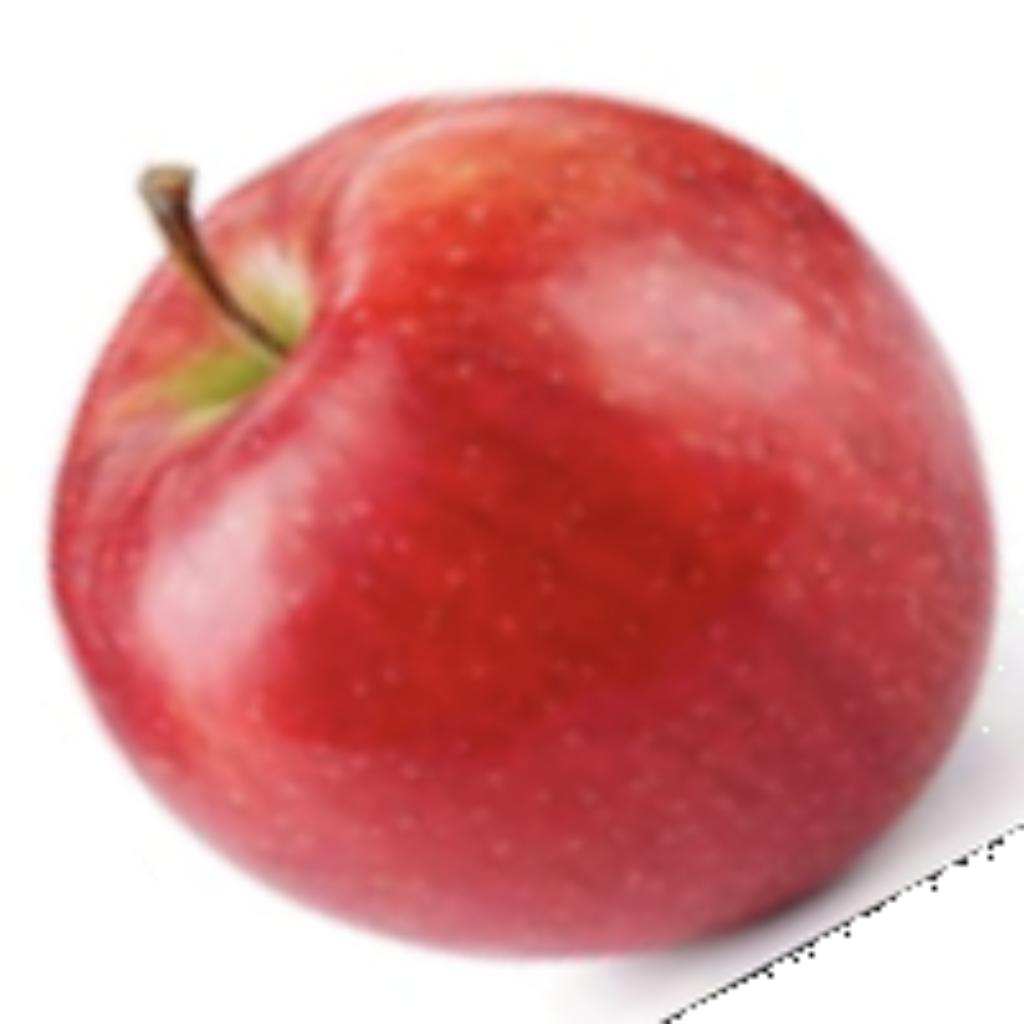apple: (31, 72, 1019, 1019)
